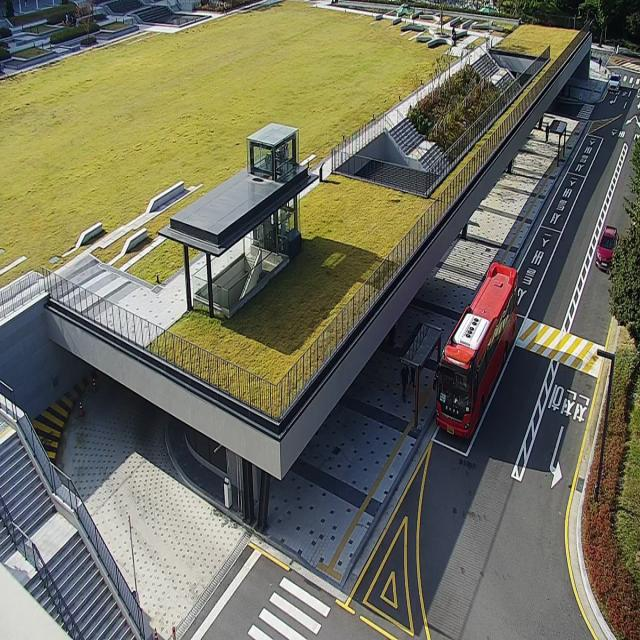queue: (416, 327, 442, 434)
